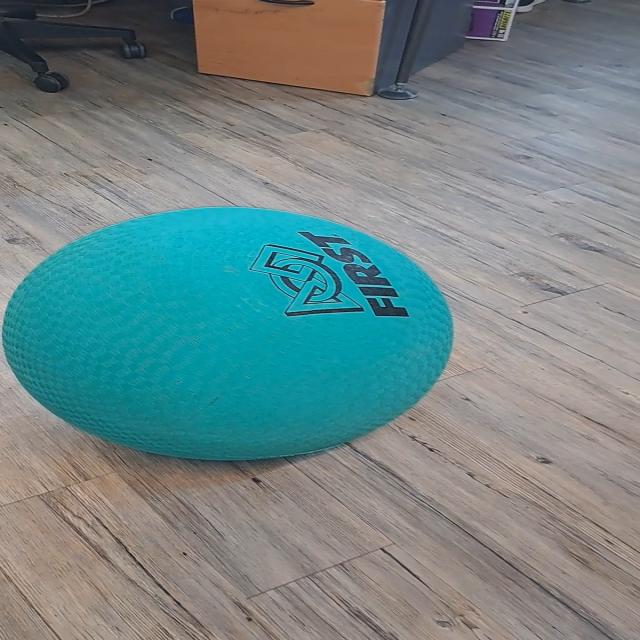ALGAE: (2, 204, 455, 462)
